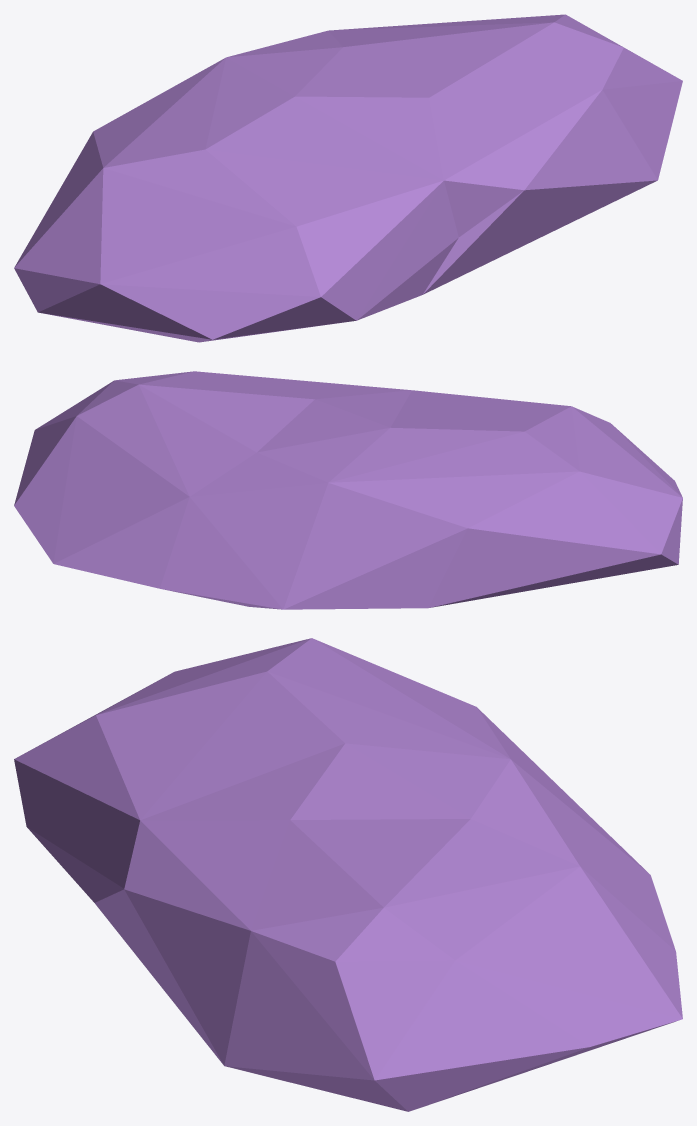
File: rock6.fbx
3 renders of one model, top to bottom at view 1: azimuth 30°, elevation 25°; view 2: azimuth 150°, elevation 25°; view 3: azimuth 270°, elevation 25°, orthographic. The views are drawn at different scales.
Visible parts, largest first — view 1: rock3.001; view 2: rock3.001; view 3: rock3.001.
Part boxes in pixels (x1,y1,x2,y2): rock3.001: (14,14,682,342); rock3.001: (14,371,682,609); rock3.001: (14,638,682,1111).
Size of the model in its own units: 309 by 60.5 by 218.
